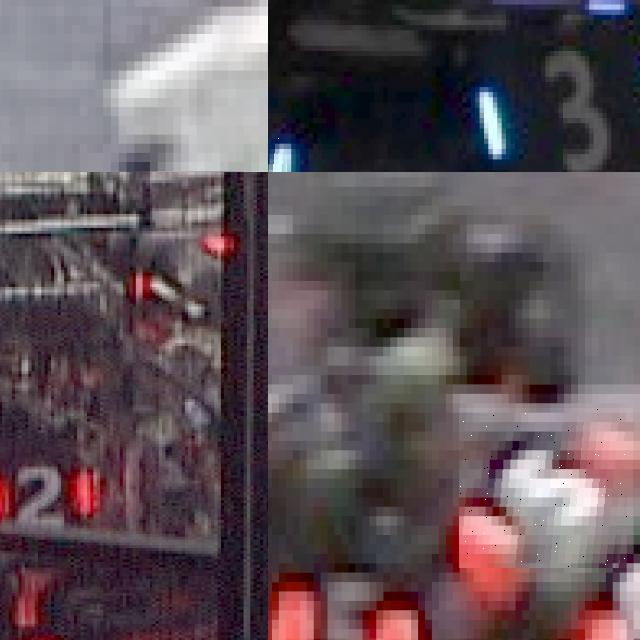B3: (475, 30, 640, 172)
R2: (0, 465, 95, 529)
R5: (460, 408, 634, 568), (268, 549, 432, 640), (546, 526, 640, 640)
